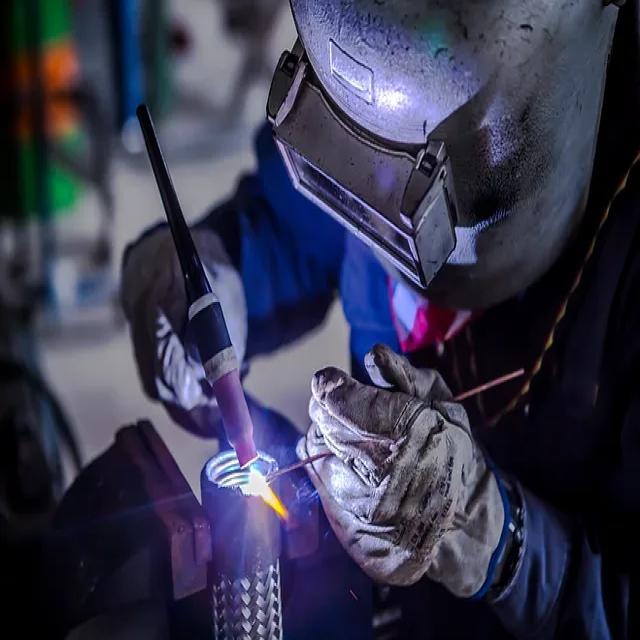welding: (243, 466, 271, 497)
